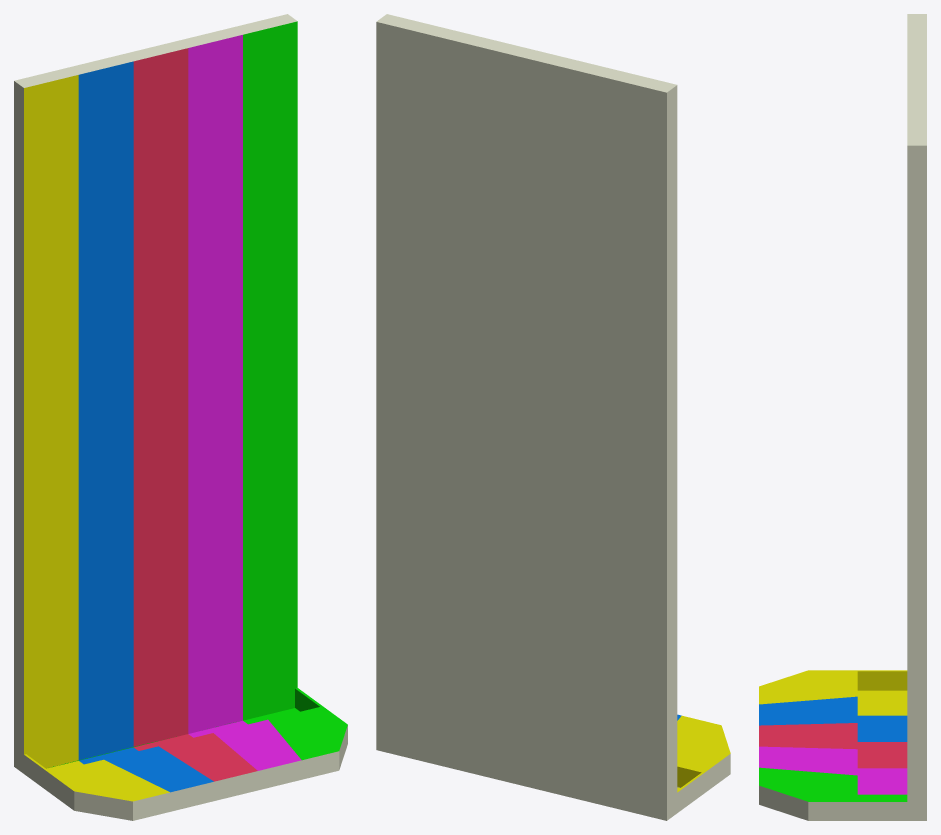
File: EndGame.fbx
3 views of the same model, side by side, from view 1: azimuth 30°, elevation 25°; view 2: azimuth 150°, elevation 25°; view 3: azimuth 270°, elevation 25° (orthographic). The views are drawn at different scales.
Visible parts, largest first — view 1: EndGame; view 2: EndGame; view 3: EndGame.
Boxes of the visible parts, x1,y1,x2,y2 form: EndGame: (14, 14, 347, 820); EndGame: (376, 14, 730, 820); EndGame: (759, 14, 926, 820).
Bounding box in the file's own units: 3150 × 7544 × 1700.
